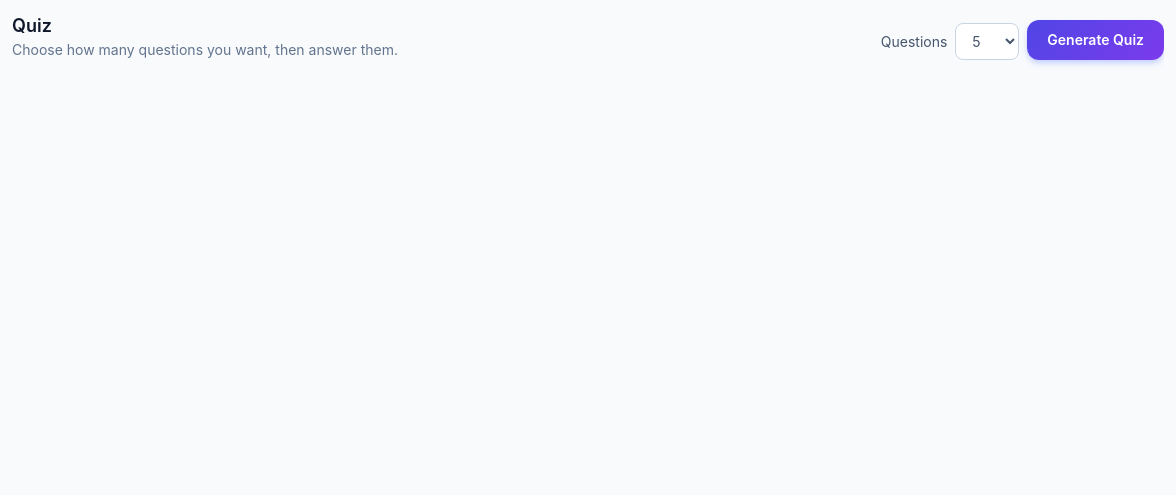
Scenario: QuizPanel (simplified) › offers 5, 10 or 20 questions and creates a medium quiz for the selected PDFs
Click the button "Generate Quiz" at (1096, 40), box [1027,20,1164,60]
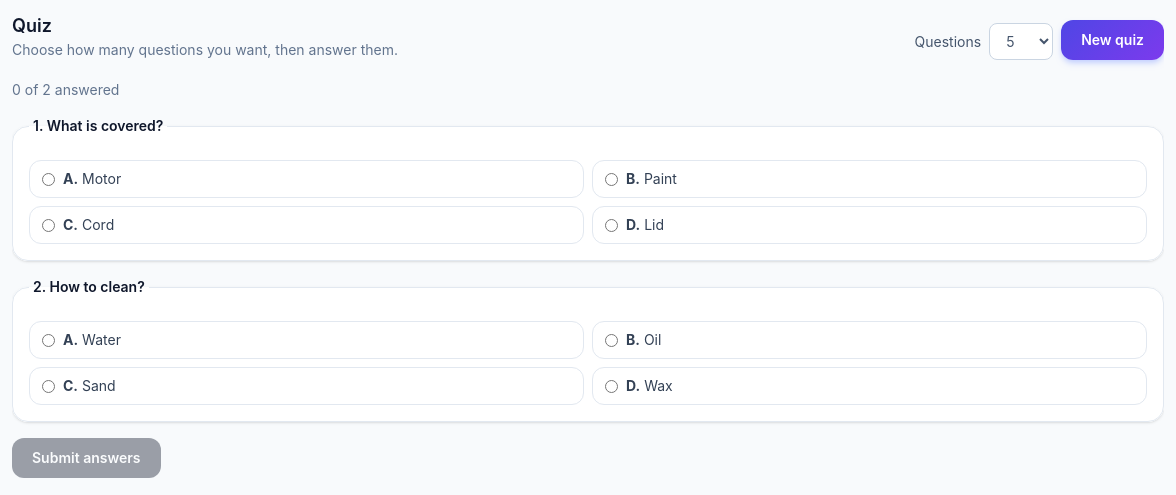
Result: the text "1. What is covered?" is shown at [29,116,167,136]
